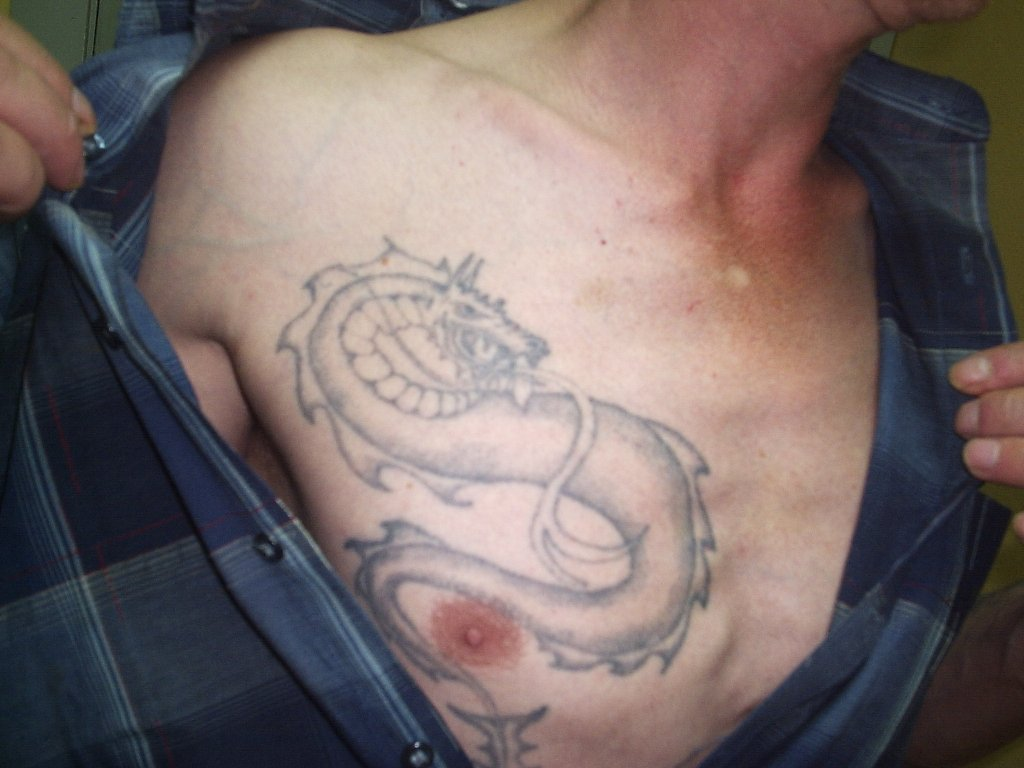tatu6_drakon: (253, 222, 723, 768)
